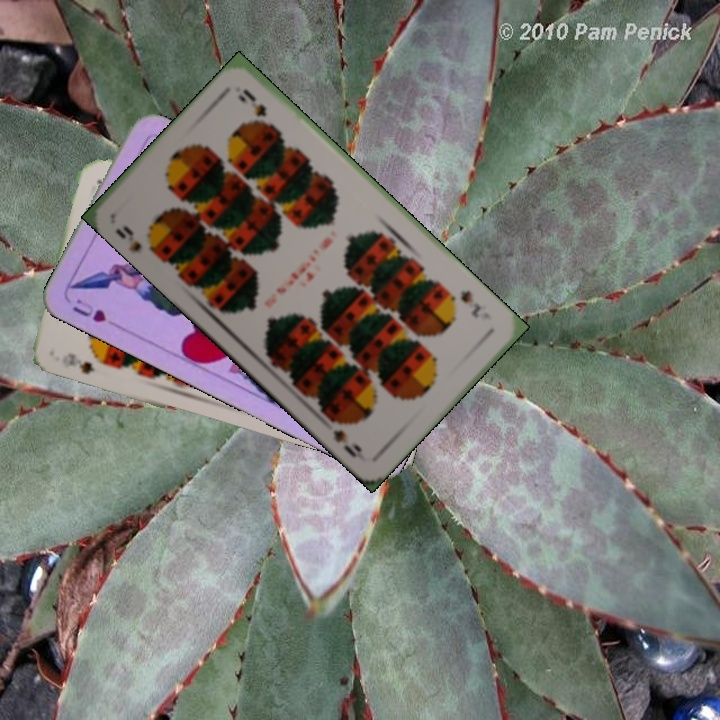HU: (68, 295, 109, 326)
S9: (111, 221, 160, 259), (57, 349, 98, 377), (456, 286, 484, 321)
